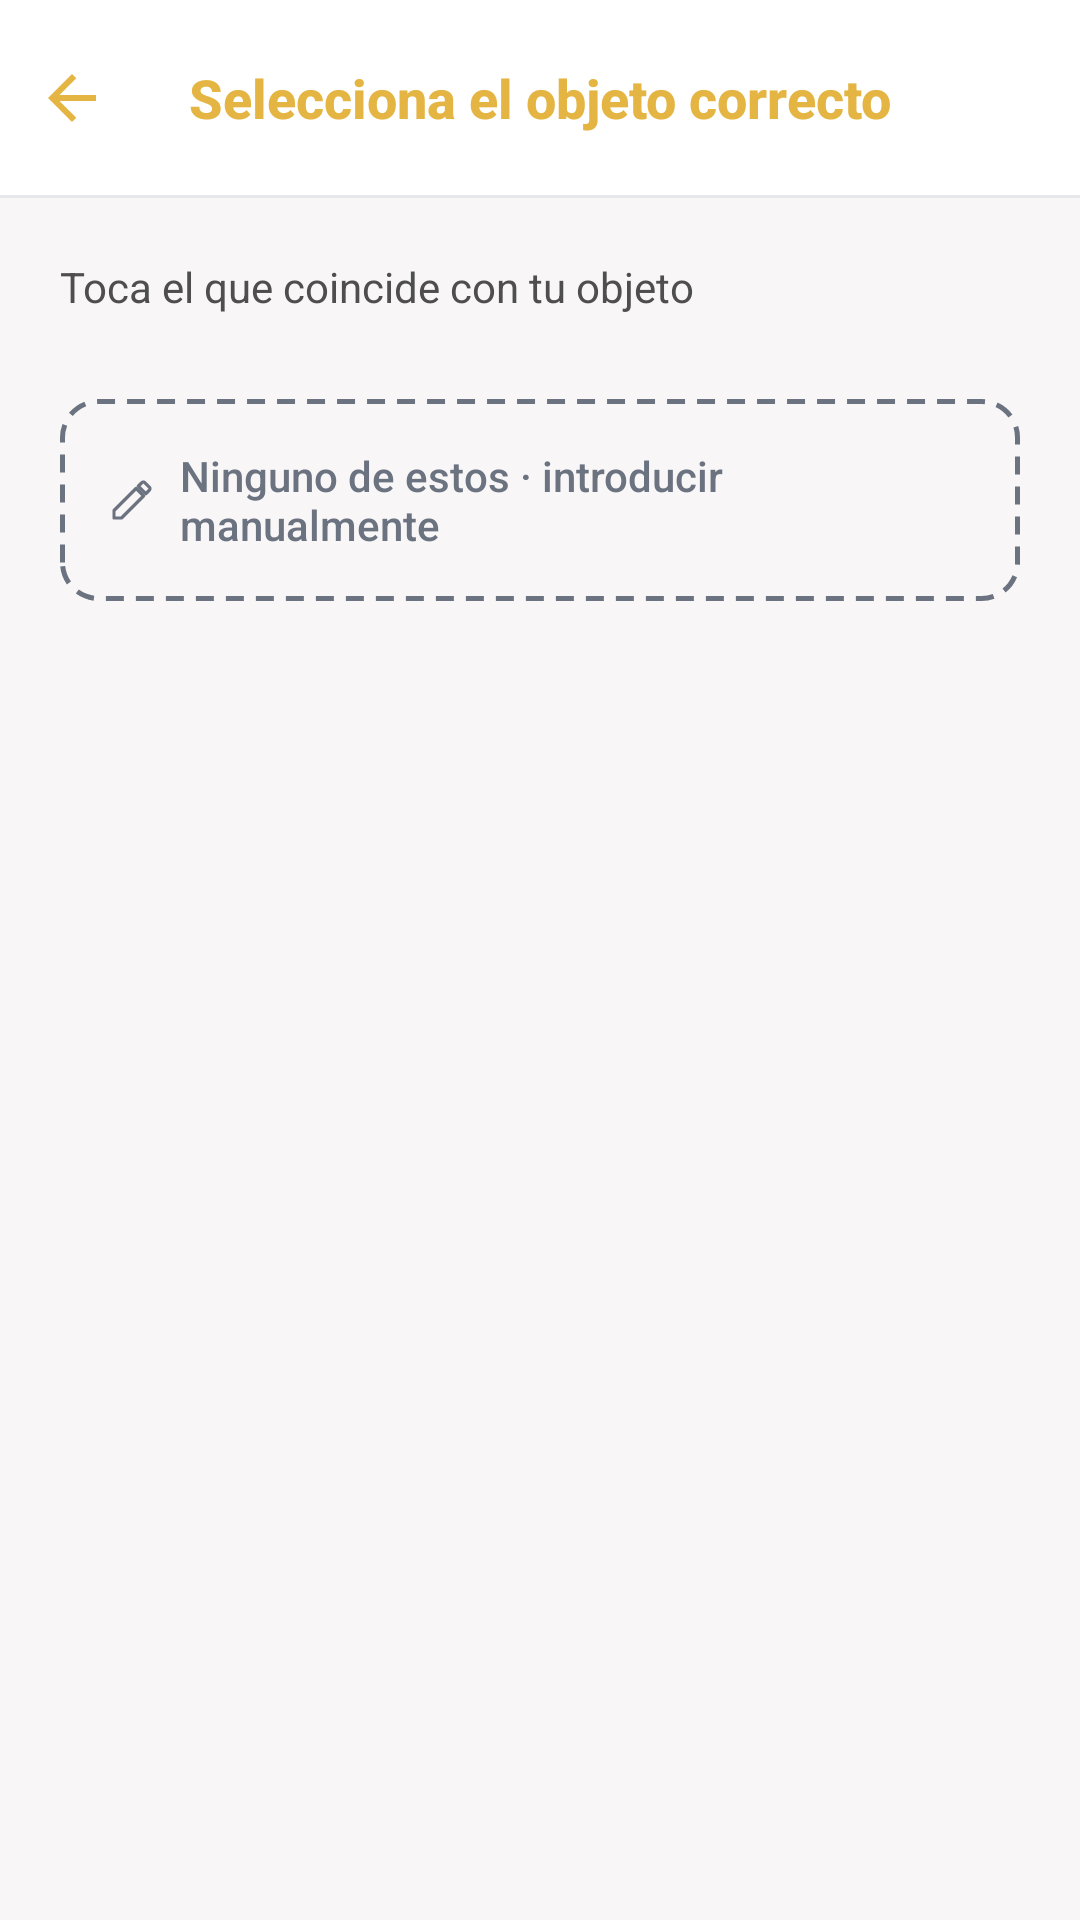

Point at icon controls on the screen. Image size 1080px x 1920px, points as point (x, y).
edit: point (132, 500)
Volver: point (72, 98)
